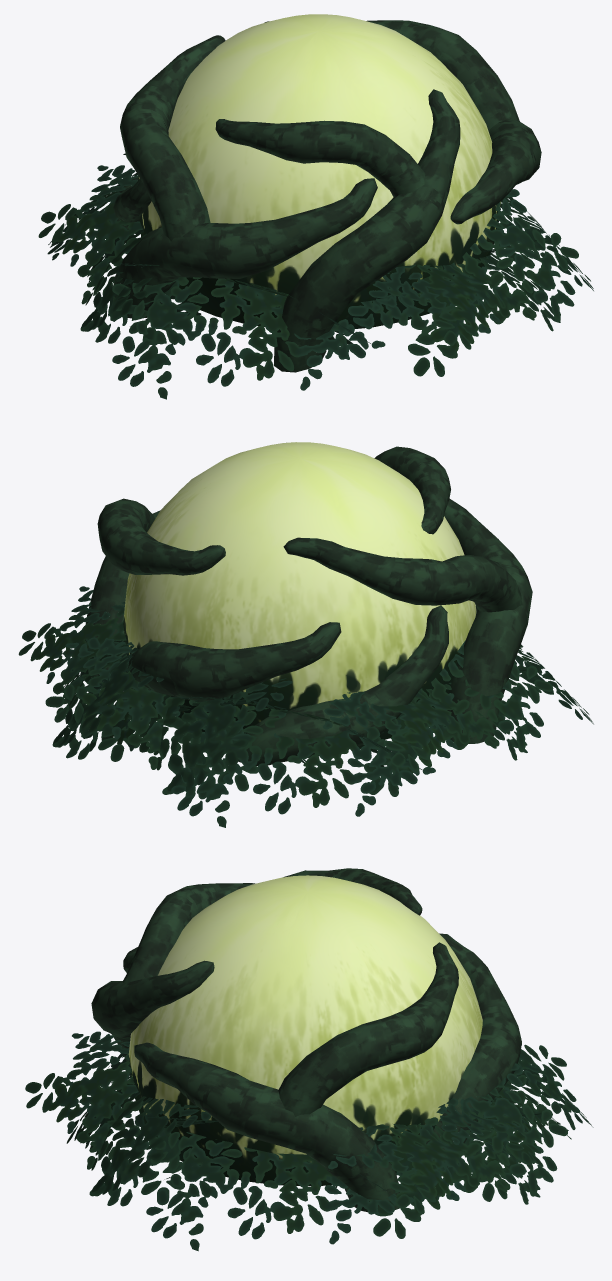
Rendered from PRM Big Bulb.fbx.
3 views of the same model, one above another, from view 1: azimuth 30°, elevation 25°; view 2: azimuth 150°, elevation 25°; view 3: azimuth 270°, elevation 25° (orthographic). The views are drawn at different scales.
Visible parts, largest first — view 1: Big Bulb_LOD0; view 2: Big Bulb_LOD0; view 3: Big Bulb_LOD0.
Part boxes in pixels (bbox=[...]): Big Bulb_LOD0: bbox=[38, 14, 593, 399]; Big Bulb_LOD0: bbox=[18, 442, 593, 827]; Big Bulb_LOD0: bbox=[25, 868, 593, 1251].
Size of what is drawn, in the model's own units: 2237 by 1118 by 2261.
